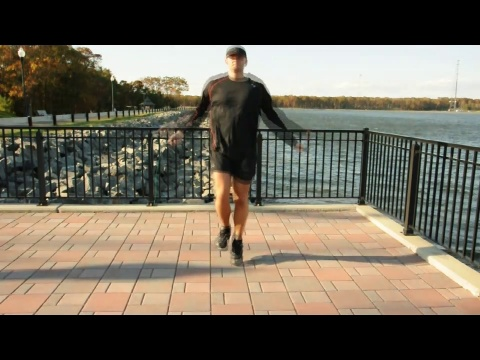person: (181, 47, 292, 260)
